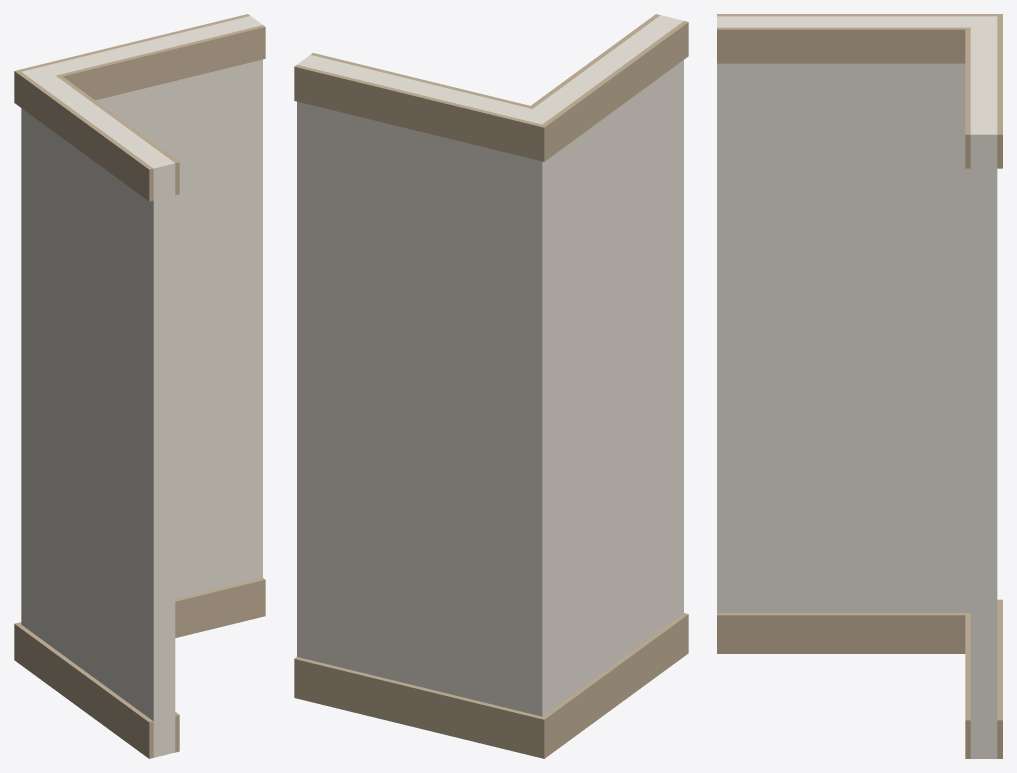
Rendered from partitionElbow.glb.
3 renders of one model, left to right at view 1: azimuth 30°, elevation 25°; view 2: azimuth 150°, elevation 25°; view 3: azimuth 270°, elevation 25°, orthographic. The views are drawn at different scales.
Parts seen in each view (by area): view 1: partitionElbow; view 2: partitionElbow; view 3: partitionElbow.
Boxes of the visible parts, x1,y1,x2,y2 form: partitionElbow: (14,14,265,758); partitionElbow: (294,14,688,758); partitionElbow: (717,14,1002,758).
Size of the model in its own units: 0.535 by 1.29 by 0.535.
Materials: 1 (1 with a texture image).
